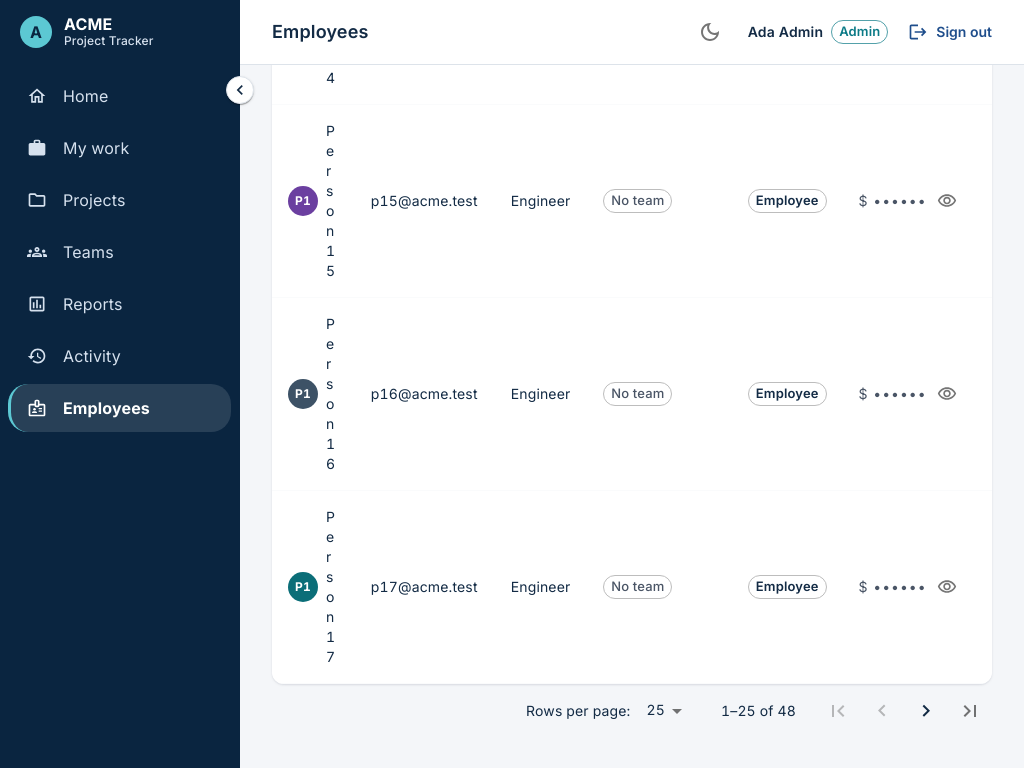
Long lists come a page at a time › Employees: 25 a page, the rest on the next
(page scrolled)
Expected: the navigation bar named "Employees pages" shows "1–25 of 48", [721,702,796,719]
Click the button named "Go to next page". click: (926, 711)
box: [904,689,948,733]
(page scrolled)
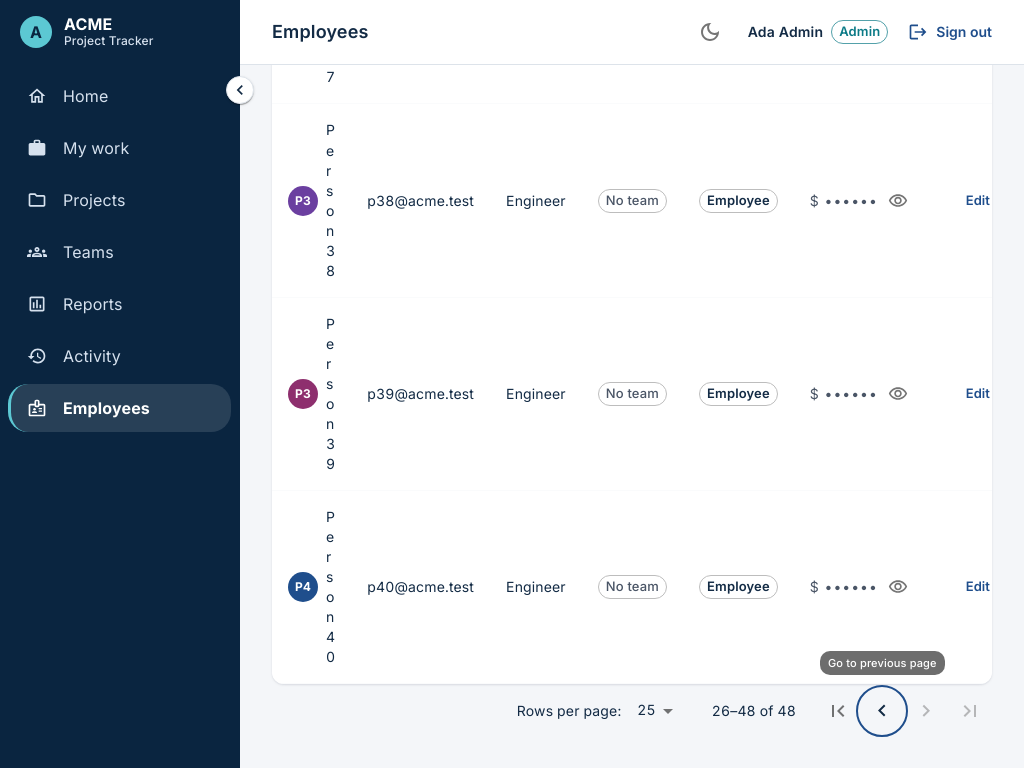
Now the navigation bar named "Employees pages" shows "26–48 of 48", box [712,702,796,719]
